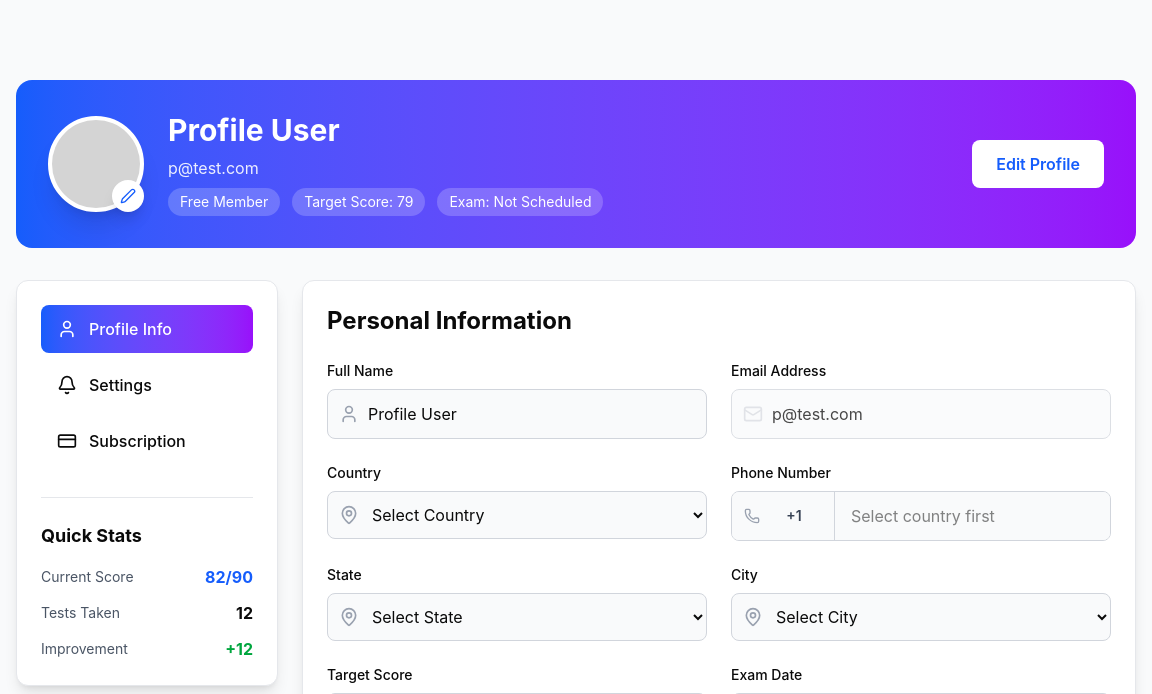
Test case: ProfilePage › switches to Settings tab
Click the button "Settings" at coordinates (147, 385), box [41,361,253,409]
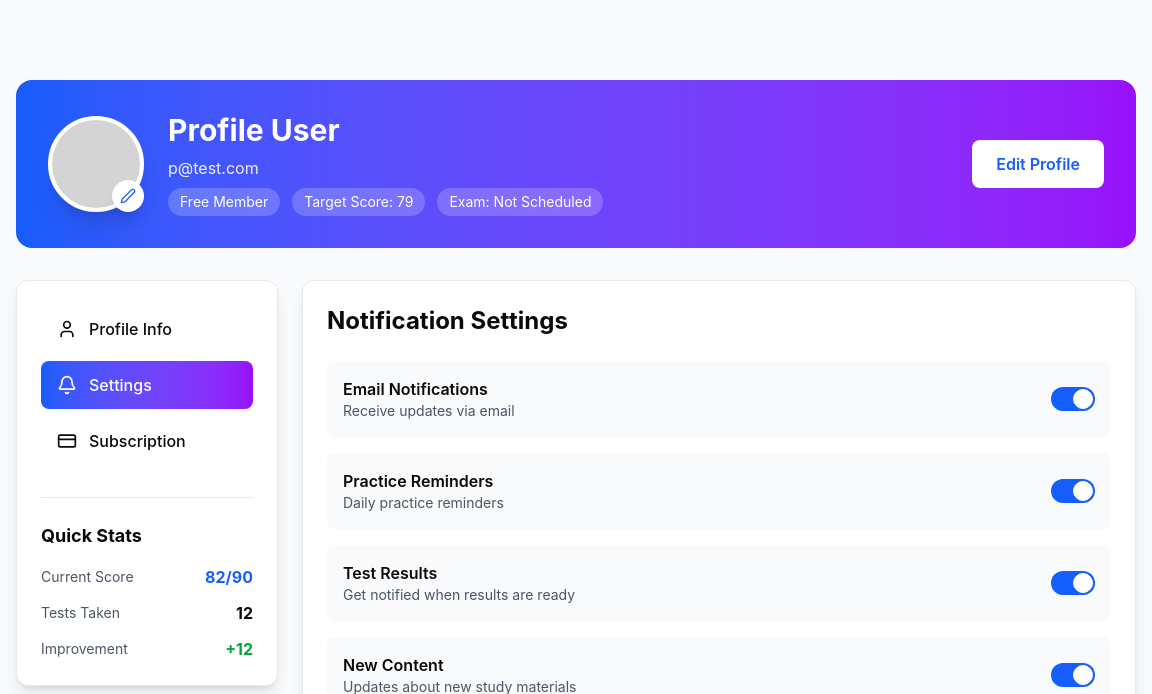
Expected: the heading "Notification Settings" is shown, [327,306,568,335]
